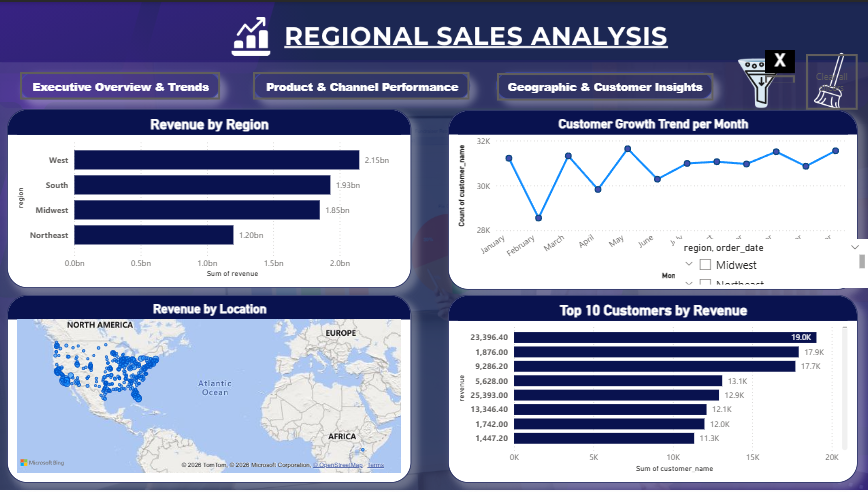

The dashboard page shown, as its layout file describes it:
{"tool":"powerbi","page":{"name":"Geographic & Customer Insights","canvas":[1280,720],"ordinal":2},"visuals":[{"type":"textbox","title":"Executive Overview & Trends","box":[33.8,102.9,293.9,39.7],"z":0},{"type":"actionButton","box":[733.8,103.5,318.1,40.5],"z":0,"group":"g1"},{"type":"textbox","title":"Product &  Channel Performance","box":[376.2,102.9,318.9,39.7],"z":1000},{"type":"barChart","title":"Top 10 Customers by Revenue","fields":{"Y":["Sum(regional_sales_data_clean.customer_name)"],"Category":["regional_sales_data_clean.revenue"]},"box":[662,430,602,276],"z":1000,"group":"g1"},{"type":"actionButton","box":[1188,76,76,82],"z":2000,"group":"g1"},{"type":"textbox","title":"Geographic & Customer Insights","box":[733.2,102.9,318.9,39.7],"z":2000},{"type":"actionButton","box":[34.5,103.5,294.1,40.5],"z":3000},{"type":"actionButton","box":[376.6,103.5,318.1,40.5],"z":4000},{"type":"barChart","title":"Revenue by Region","fields":{"Category":["regional_sales_data_clean.region"],"Y":["Sum(regional_sales_data_clean.revenue)"]},"box":[14.7,157.2,593.6,263],"z":5000},{"type":"lineChart","title":"Customer Growth Trend per Month","fields":{"Category":["regional_sales_data_clean.order_date.Variation.Date Hierarchy.Month"],"Y":["CountNonNull(regional_sales_data_clean.customer_name)"]},"box":[662,158,602,264],"z":6000},{"type":"map","title":"Revenue by Location","fields":{"Size":["Sum(regional_sales_data_clean.revenue)"],"Category":["regional_sales_data_clean.county","regional_sales_data_clean.state"]},"box":[14,430,594,276],"z":7000},{"type":"slicer","fields":{"Values":["regional_sales_data_clean.region","regional_sales_data_clean.order_date"]},"box":[996.2,348.2,283.6,72],"z":9000},{"type":"group","id":"g1","title":"Group 1","box":[662,76,602,630],"z":10000},{"type":"actionButton","title":"X","box":[1128,70,44,48],"z":11000}]}

Visuals, with their boxes in screenshot pixels (x1, y1, x2, y2), scaled from the page's 1280x720 canvas onto the 868x492 screenshot:
"Executive Overview & Trends" textbox: (23,70,222,97)
actionButton: (498,71,713,98)
"Product &  Channel Performance" textbox: (255,70,471,97)
"Top 10 Customers by Revenue" barChart: (449,294,857,482)
actionButton: (806,52,857,108)
"Geographic & Customer Insights" textbox: (497,70,713,97)
actionButton: (23,71,223,98)
actionButton: (255,71,471,98)
"Revenue by Region" barChart: (10,107,413,287)
"Customer Growth Trend per Month" lineChart: (449,108,857,288)
"Revenue by Location" map: (9,294,412,482)
slicer - regional_sales_data_clean.region x regional_sales_data_clean.order_date: (676,238,867,287)
"Group 1" group: (449,52,857,482)
"X" actionButton: (765,48,795,81)
